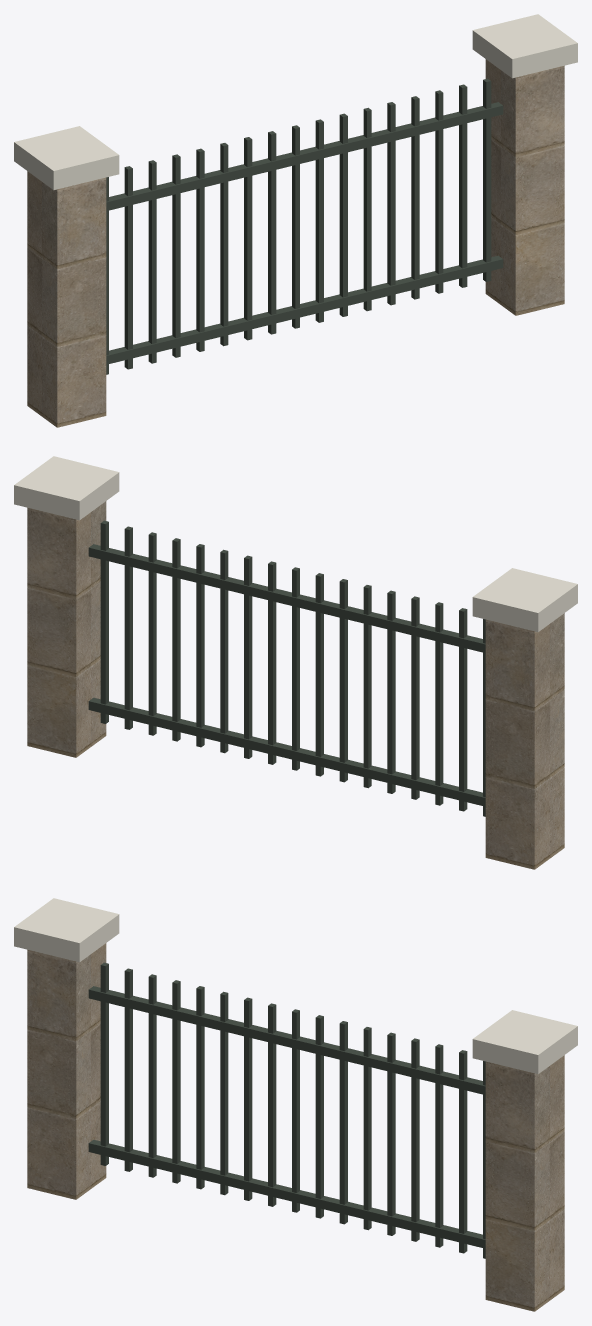
File: fence_panel.glb
The picture shows the model from 3 angles, top to bottom: view 1: azimuth 30°, elevation 25°; view 2: azimuth 150°, elevation 25°; view 3: azimuth 330°, elevation 25°; orthographic projection.
Parts seen in each view (by area): view 1: fence_panel; view 2: fence_panel; view 3: fence_panel.
Boxes of the visible parts, box(x1,y1,x2,y2) form: fence_panel: box(14, 14, 577, 427); fence_panel: box(14, 456, 577, 869); fence_panel: box(14, 898, 577, 1311).
Bounding box in the file's own units: 3.43 × 1.64 × 0.45.
Materials: 3 (1 with a texture image).
